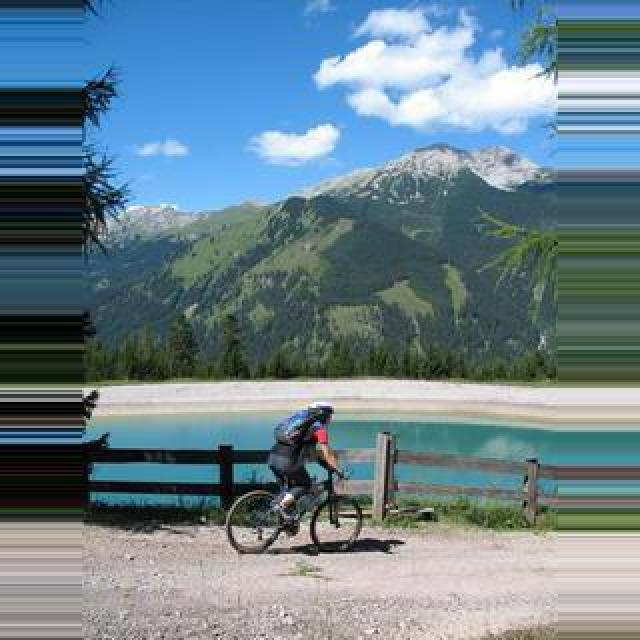MC-Bike: (266, 400, 346, 536)
Person: (224, 464, 364, 556)
